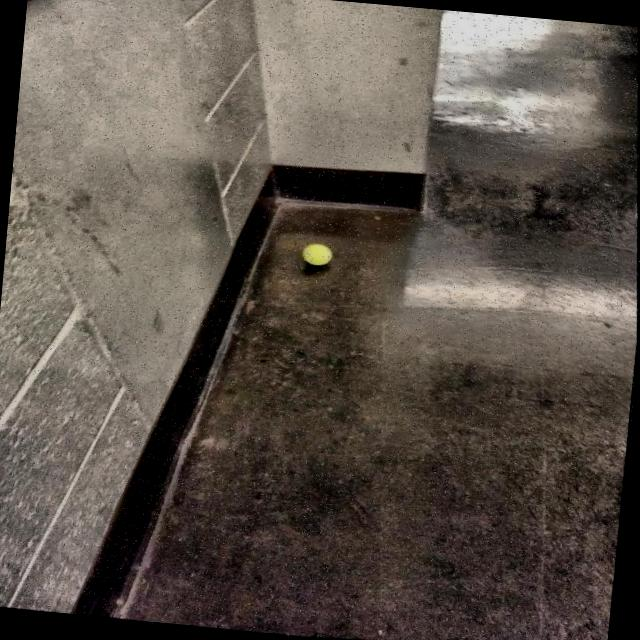Tennis Ball: (296, 237, 337, 274)
